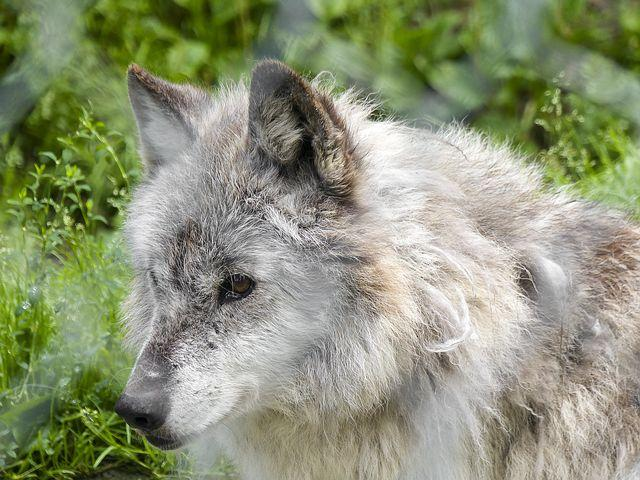Wolf: (120, 58, 640, 480)
